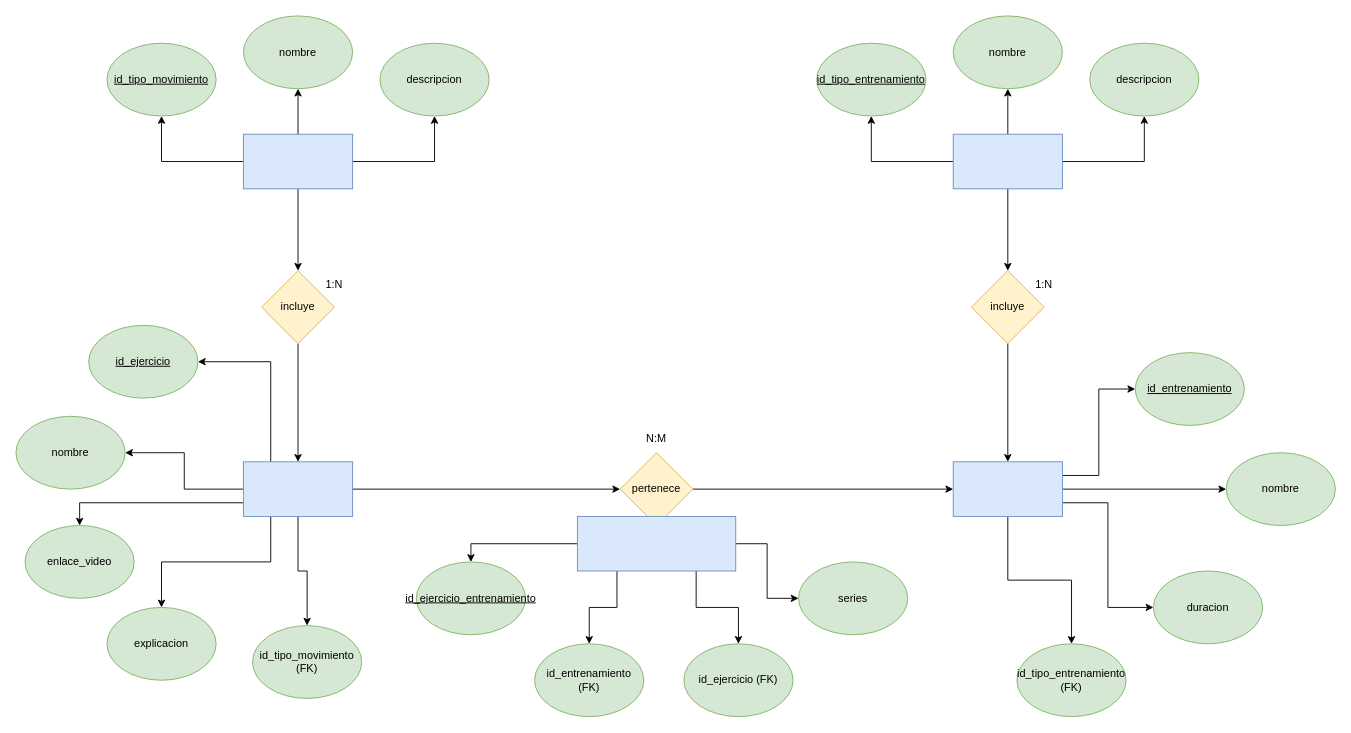
Some shapes in this 1351 by 733 pixel diagram are drawn without their labels. The shapes that lost their labels are listed below. From the top down, each one's centre as x and y in pixels, then its label:
At (298,161): "Tipo_movimiento".
At (1007,161): "Tipo_entrenamiento".
At (298,488): "Ejercicio".
At (1007,488): "Entrenamiento".
At (656,543): "Ejercicio_entrenamiento".
